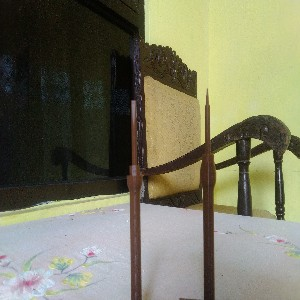obeng: (126, 100, 143, 300)
solder: (199, 88, 217, 300)
